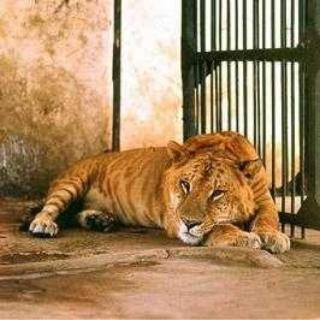Tiger: (10, 107, 316, 269)
